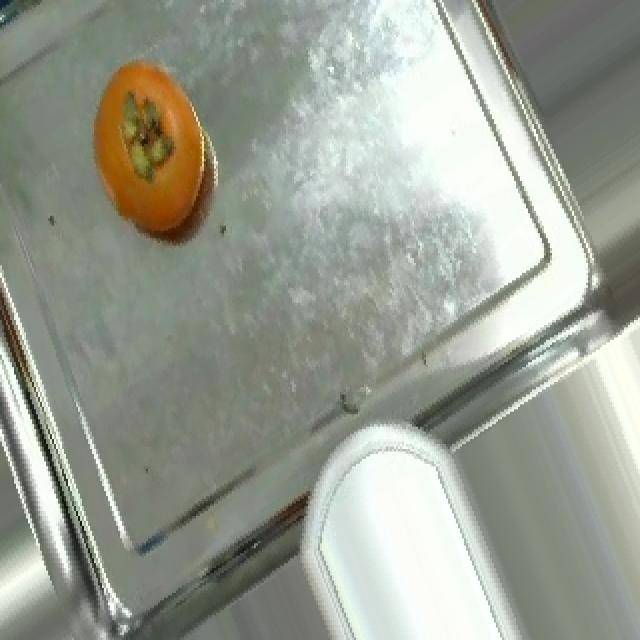Fruit: (72, 40, 232, 258), (162, 555, 370, 640)
